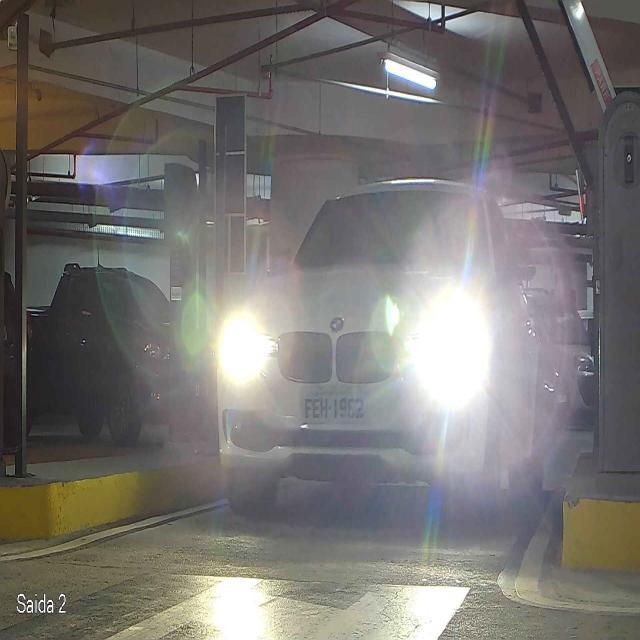old_plate: (298, 388, 374, 427)
